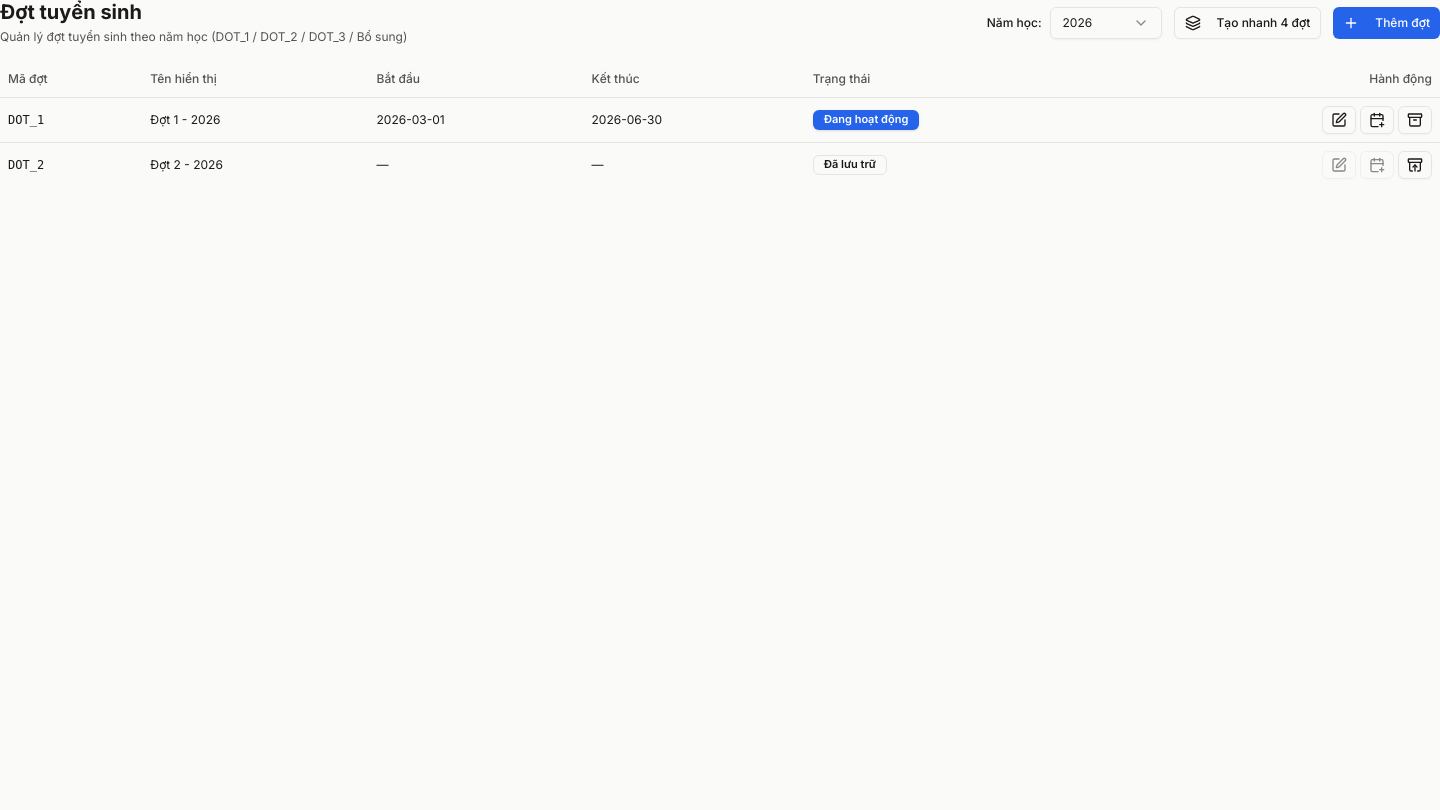
Test: RoundsManagementTab year-level › ANCHOR (Phase 3 close-out 2026-05-14): edit dialog seeds 2 Phase 3 fields from row
Click the button named "Sửa đợt" in the row of "Đợt 1 - 2026": x=1339, y=120 [1322,106,1356,134]
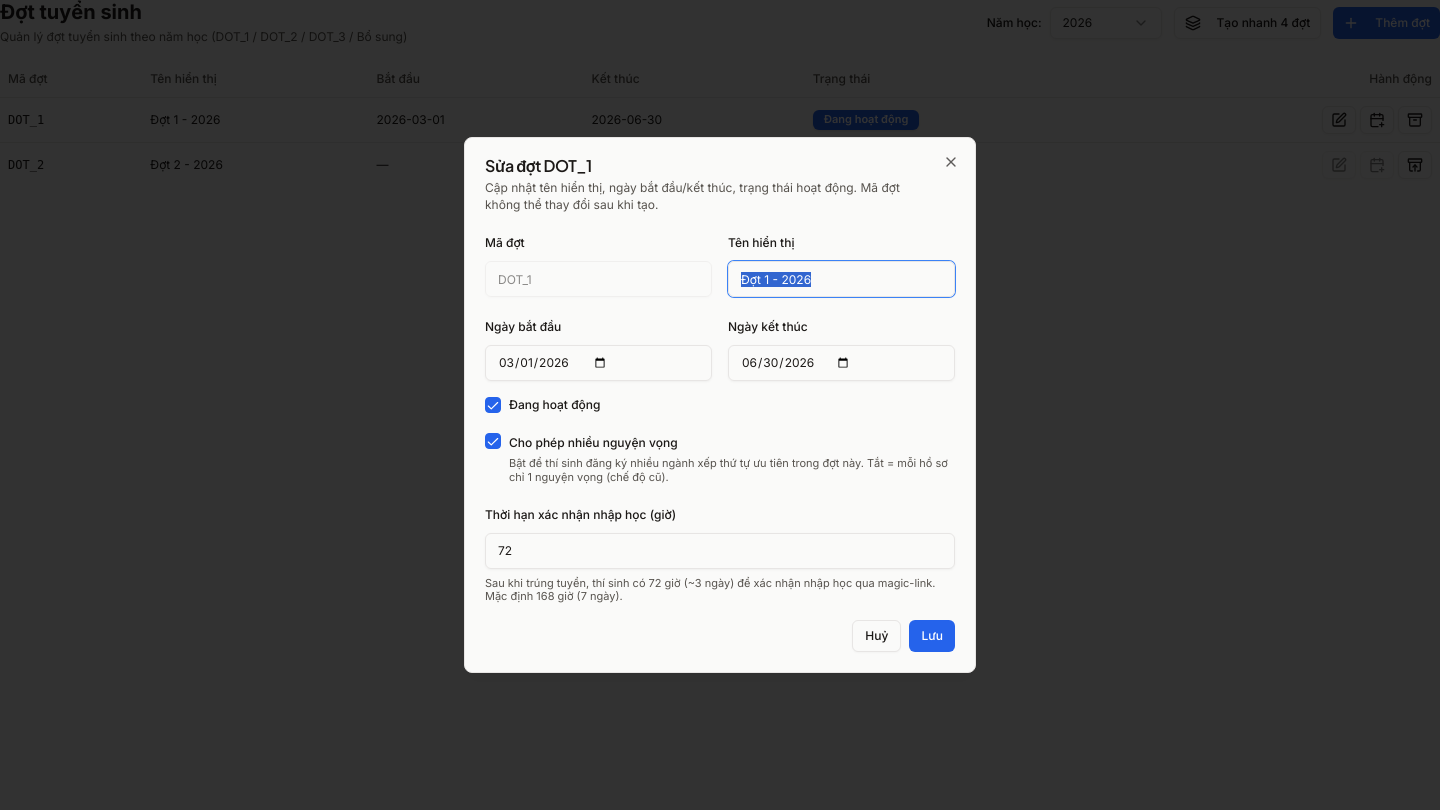
Check: the number field labelled "Thời hạn xác nhận nhập học (giờ)" holds "72", box [485,532,955,568]
